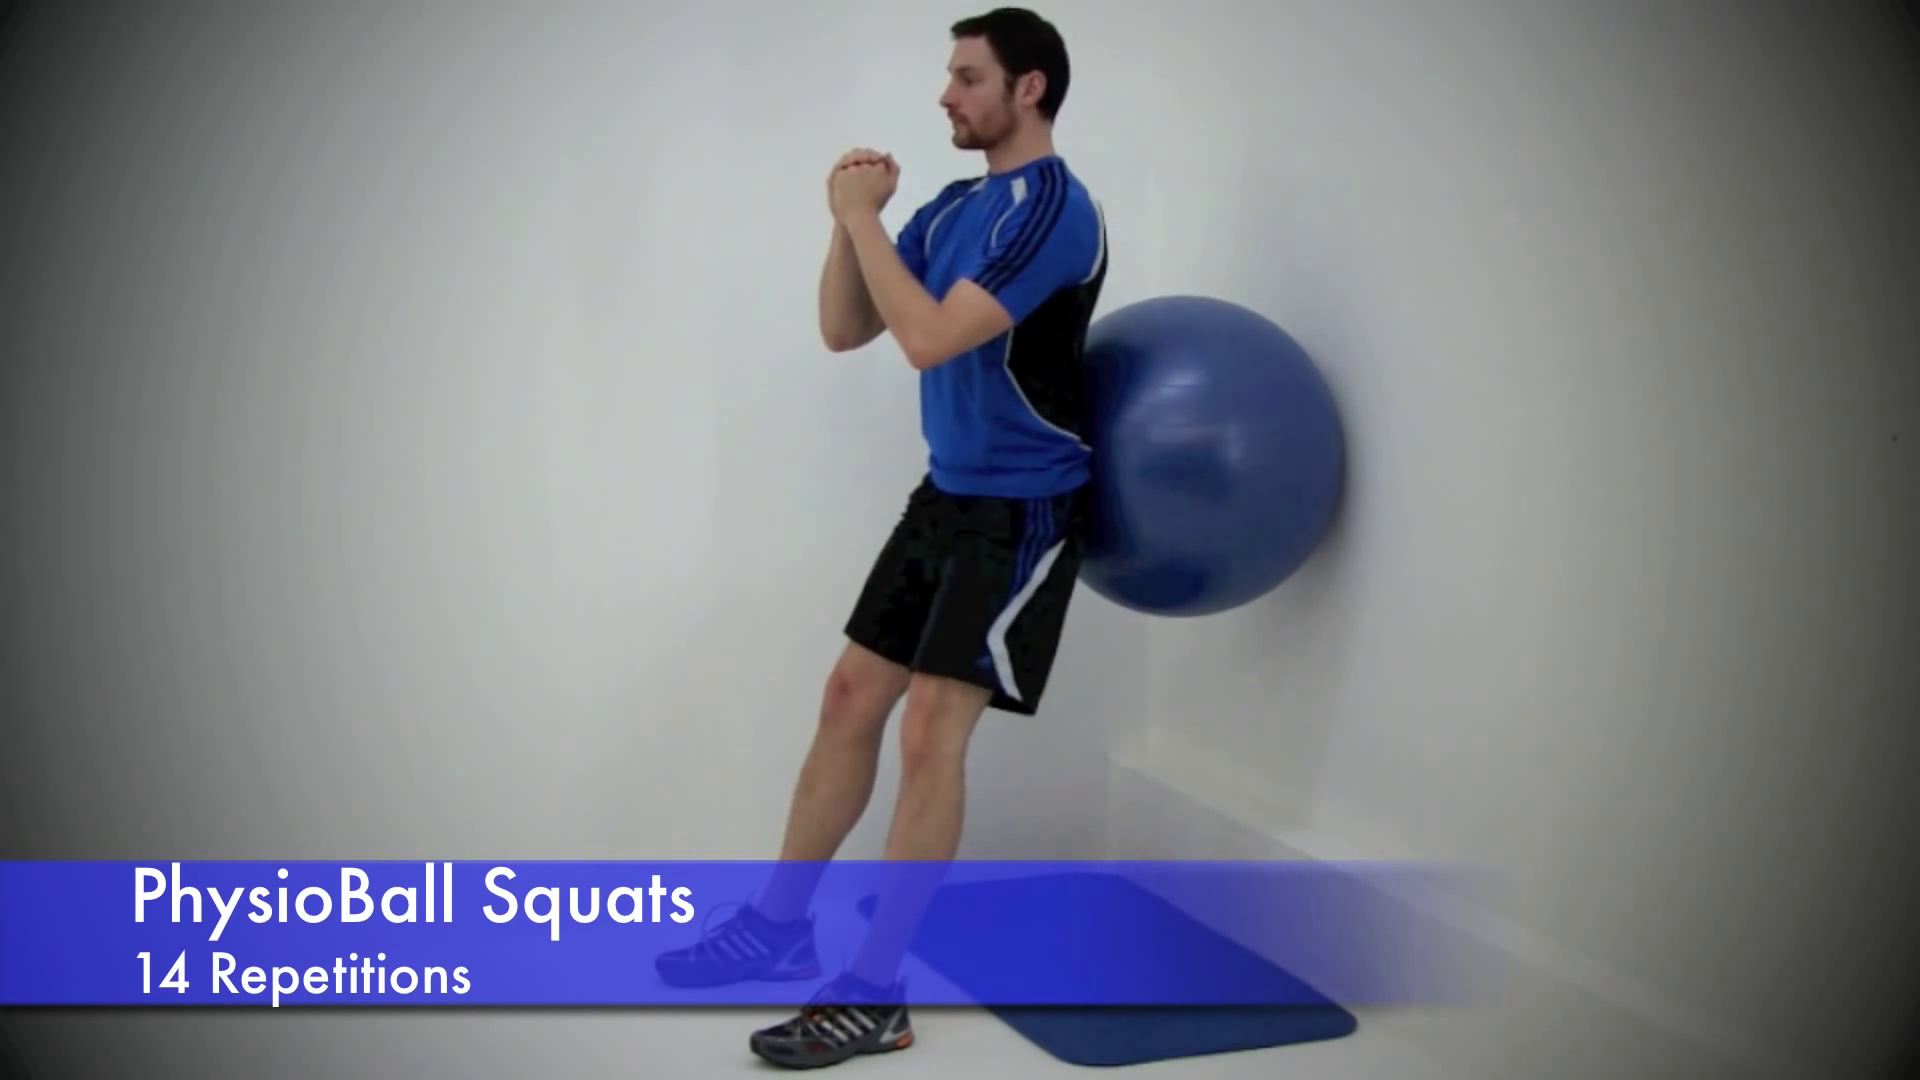yogaball: (1038, 284, 1360, 632)
